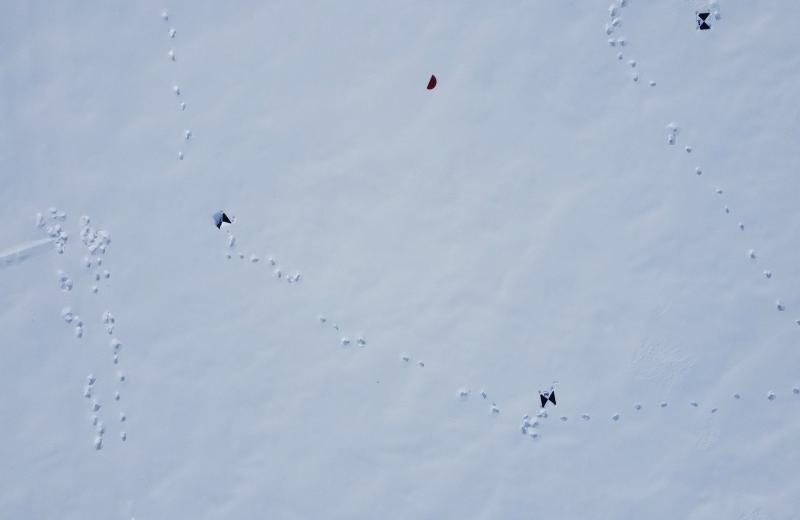Semi Circle: (426, 74, 437, 90)
